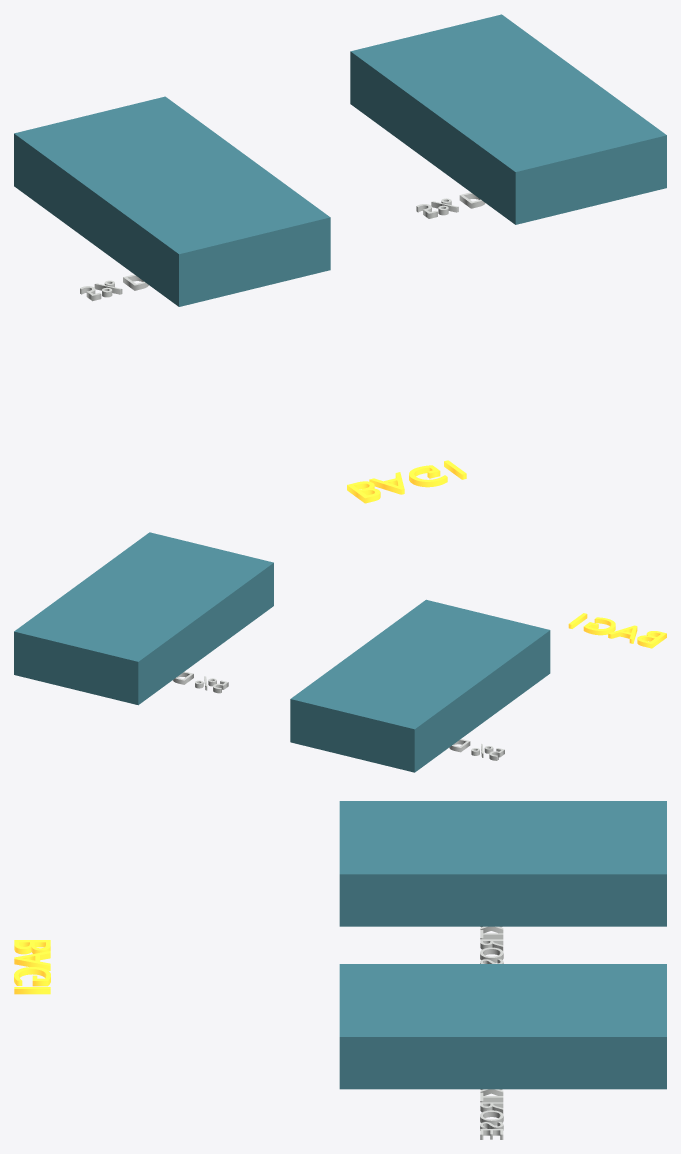
The model's file is BAG1.glb.
3 renders of one model, top to bottom at view 1: azimuth 30°, elevation 25°; view 2: azimuth 150°, elevation 25°; view 3: azimuth 270°, elevation 25°, orthographic. The views are drawn at different scales.
Visible parts, largest first — view 1: BAG1.001, BAG1, LABEL_BAG1, BAG1_label, BAG1_label.001; view 2: BAG1.001, BAG1, LABEL_BAG1, BAG1_label, BAG1_label.001; view 3: BAG1.001, BAG1, LABEL_BAG1, BAG1_label.001, BAG1_label.
Boxes of the visible parts, x1,y1,x2,y2 form: BAG1.001: (14,96,330,306); BAG1: (350,14,666,224); LABEL_BAG1: (347,460,466,503); BAG1_label: (80,274,148,301); BAG1_label.001: (416,192,485,218); BAG1.001: (290,599,550,772); BAG1: (14,532,273,705); LABEL_BAG1: (568,613,666,648); BAG1_label: (449,739,504,760); BAG1_label.001: (173,671,228,693); BAG1.001: (339,801,666,926); BAG1: (339,964,666,1089); LABEL_BAG1: (14,940,50,994); BAG1_label.001: (480,1089,503,1139); BAG1_label: (480,926,503,963).
Size of the model in its own units: 0.6214 by 0.153 by 0.678.
